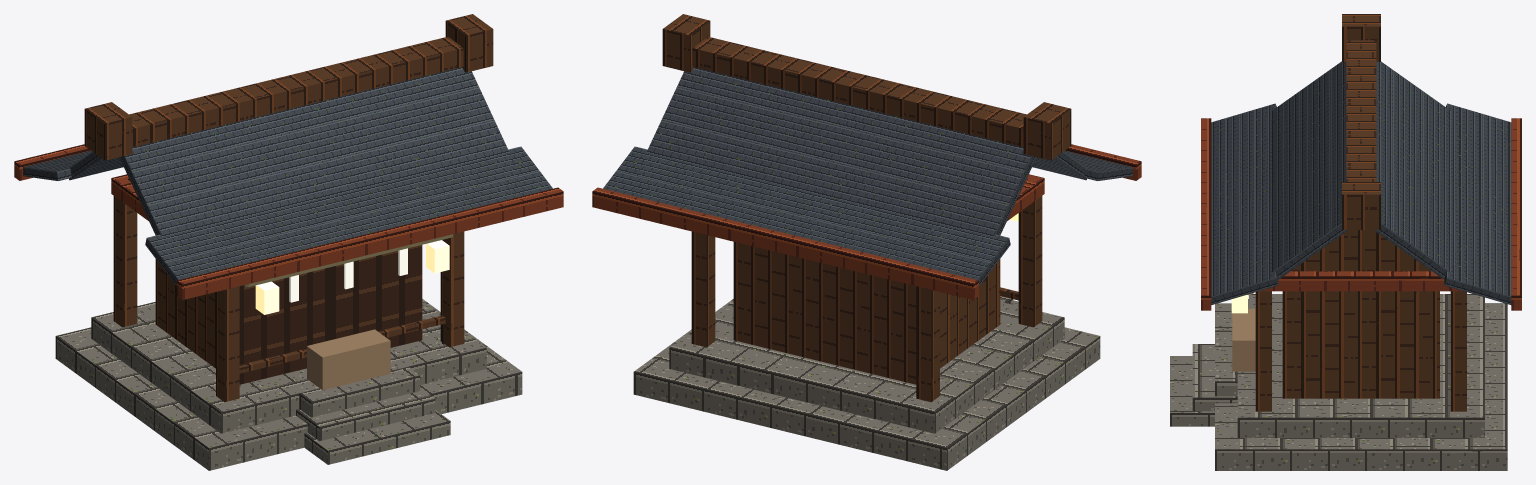
File: Shrine.glb
3 views of the same model, side by side, from view 1: azimuth 30°, elevation 25°; view 2: azimuth 150°, elevation 25°; view 3: azimuth 270°, elevation 25° (orthographic). The views are drawn at different scales.
Parts seen in each view (by area): view 1: Roof_Front, Plinth, Roof_FrontFlare, Hall, Ridge, Step, Fascia_Front, OfferingBox, Post_BL, Post_FL, Post_FR, Rail (+8 smaller); view 2: Plinth, Roof_Back, Hall, Roof_BackFlare, Ridge, Fascia_Back, Post_FL, Post_BR, Post_BL, Roof_FrontFlare, Roof_Front, Fascia_Front (+1 smaller); view 3: Plinth, Hall, Roof_Front, Roof_Back, Roof_BackFlare, Roof_FrontFlare, Ridge, Step, Gables, Beams, Fascia_Front, Fascia_Back (+3 smaller).
Boxes of the visible parts, box(x1,y1,x2,y2) form: Roof_Front: box(119, 67, 508, 236); Plinth: box(55, 299, 522, 470); Roof_FrontFlare: box(145, 146, 552, 286); Hall: box(155, 245, 422, 384); Ridge: box(84, 14, 493, 160); Step: box(296, 366, 450, 464); Fascia_Front: box(177, 187, 563, 299); OfferingBox: box(307, 329, 390, 390); Post_BL: box(113, 196, 137, 327); Post_FL: box(216, 286, 239, 402); Post_FR: box(440, 231, 464, 347); Rail: box(239, 315, 445, 373); Plinth: box(633, 299, 1100, 470); Roof_Back: box(647, 67, 1036, 236); Hall: box(733, 242, 1000, 384); Roof_BackFlare: box(603, 146, 1010, 286); Ridge: box(662, 14, 1071, 160); Fascia_Back: box(592, 187, 978, 299); Post_FL: box(1018, 196, 1042, 327); Post_BR: box(691, 231, 715, 347); Post_BL: box(916, 286, 939, 402); Roof_FrontFlare: box(1063, 150, 1132, 180); Roof_Front: box(1032, 152, 1086, 180); Fascia_Front: box(1065, 144, 1141, 180); Plinth: box(1215, 294, 1507, 470); Hall: box(1282, 291, 1439, 398); Roof_Front: box(1272, 61, 1348, 279); Roof_Back: box(1374, 61, 1450, 279); Roof_BackFlare: box(1444, 103, 1511, 304); Roof_FrontFlare: box(1211, 103, 1278, 304); Ridge: box(1342, 14, 1380, 229); Step: box(1170, 330, 1237, 426); Gables: box(1291, 230, 1431, 271); Beams: box(1259, 271, 1462, 291); Fascia_Front: box(1201, 118, 1211, 310); Fascia_Back: box(1511, 118, 1521, 310).
Bounding box in the file's own units: 5.7 × 4.32 × 4.69.
Materials: 8 (5 with a texture image).
